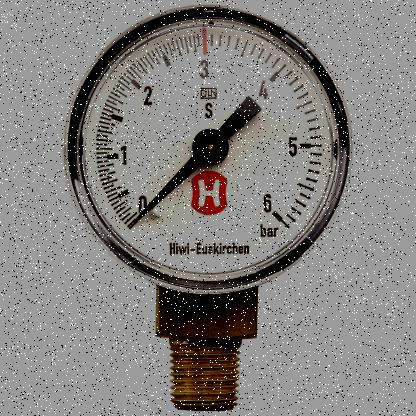needle: (134, 153, 204, 224)
